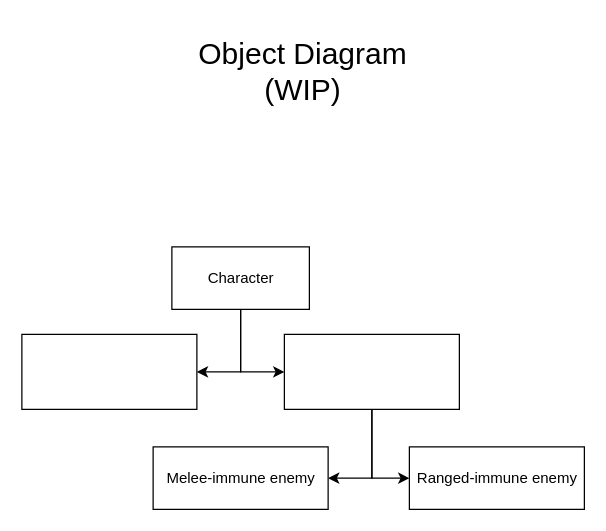
The diagram is 606 pixels wide and 531 high, and some of its shapes have lost their labels. The shapes that lost their labels are listed below. From the top down, each one's box as (x1, y1, x2, y2) in pixels, then its label:
(21, 333, 197, 409): Player character hp = 5
(283, 333, 459, 409): Enemy character hp = 1
